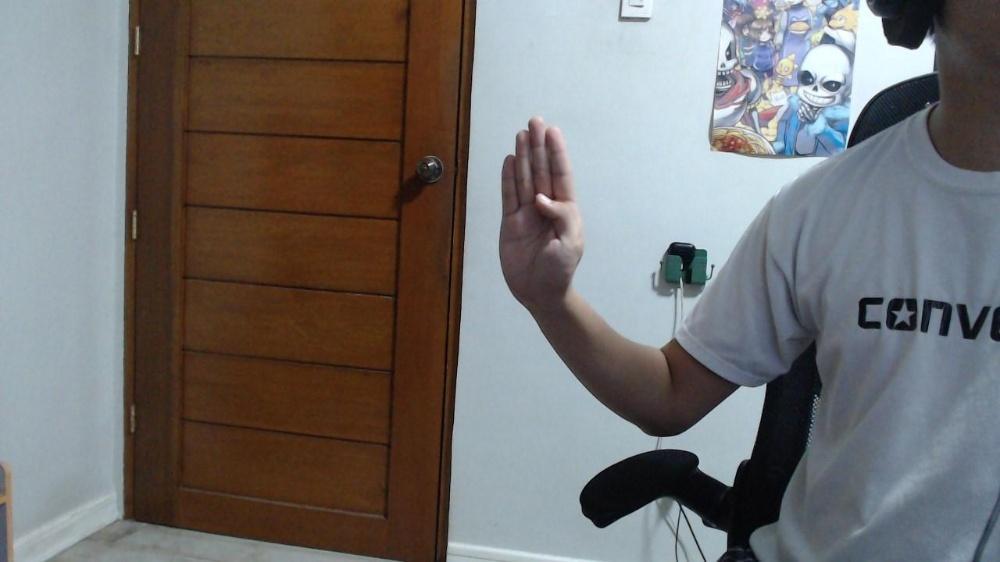b: (498, 116, 584, 292)
